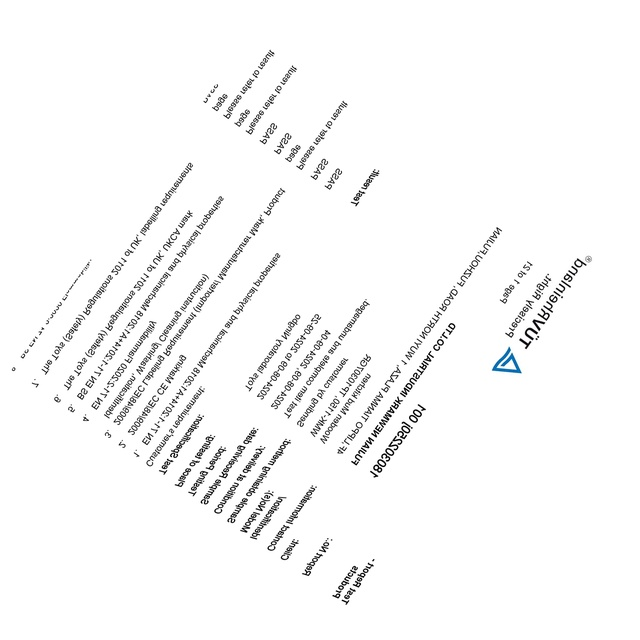tuv_rheinland: (492, 254, 592, 373)
